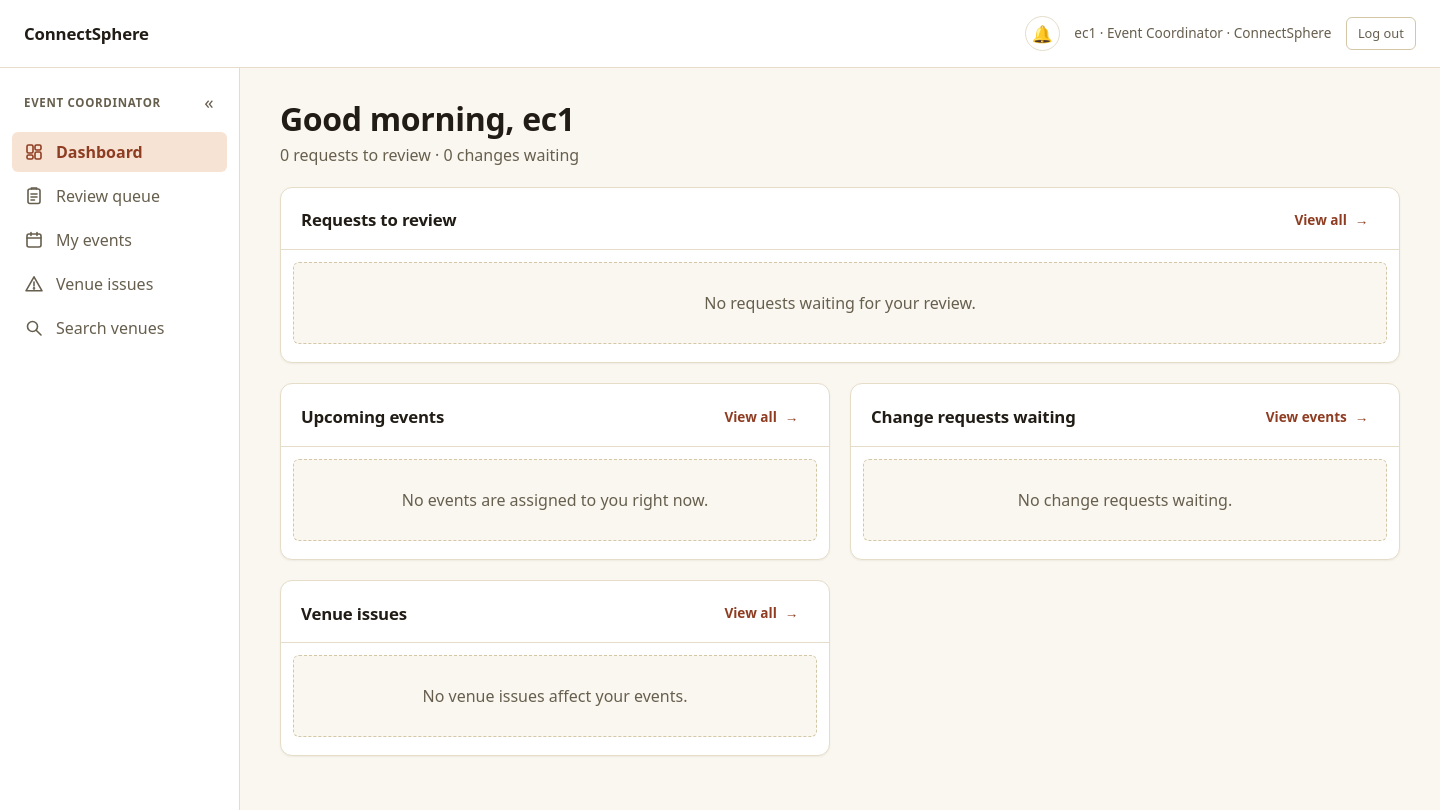
Test case: App routing — role consoles › puts "My events" one click away in the Event Coordinator navigation and opens the page there
Click the link "My events" at (78, 240), box left=24, top=229, right=132, bottom=251
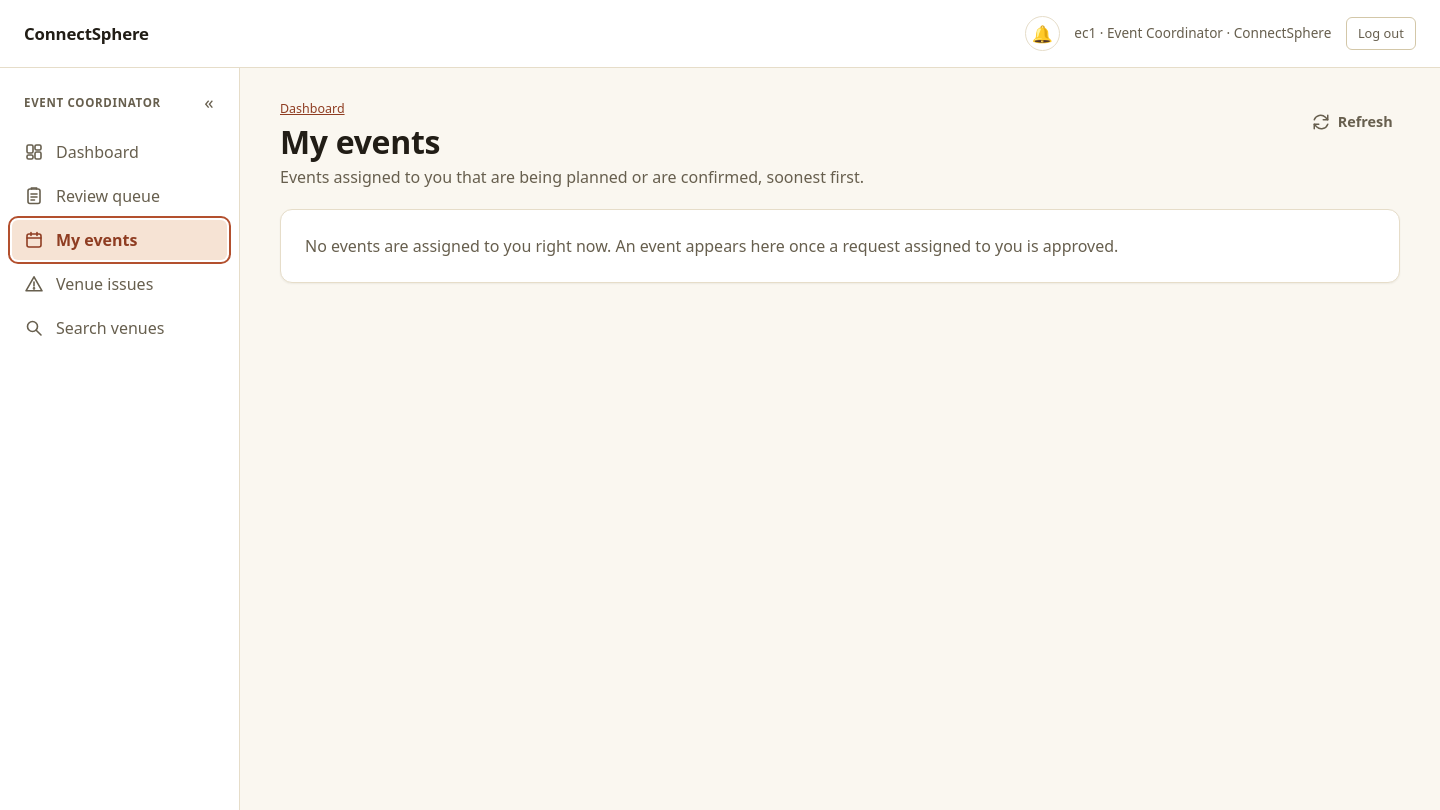
Now the heading "My events" is shown, box left=280, top=120, right=440, bottom=163
Now the text "No events are assigned to you right now." is shown, box left=305, top=235, right=1118, bottom=257
